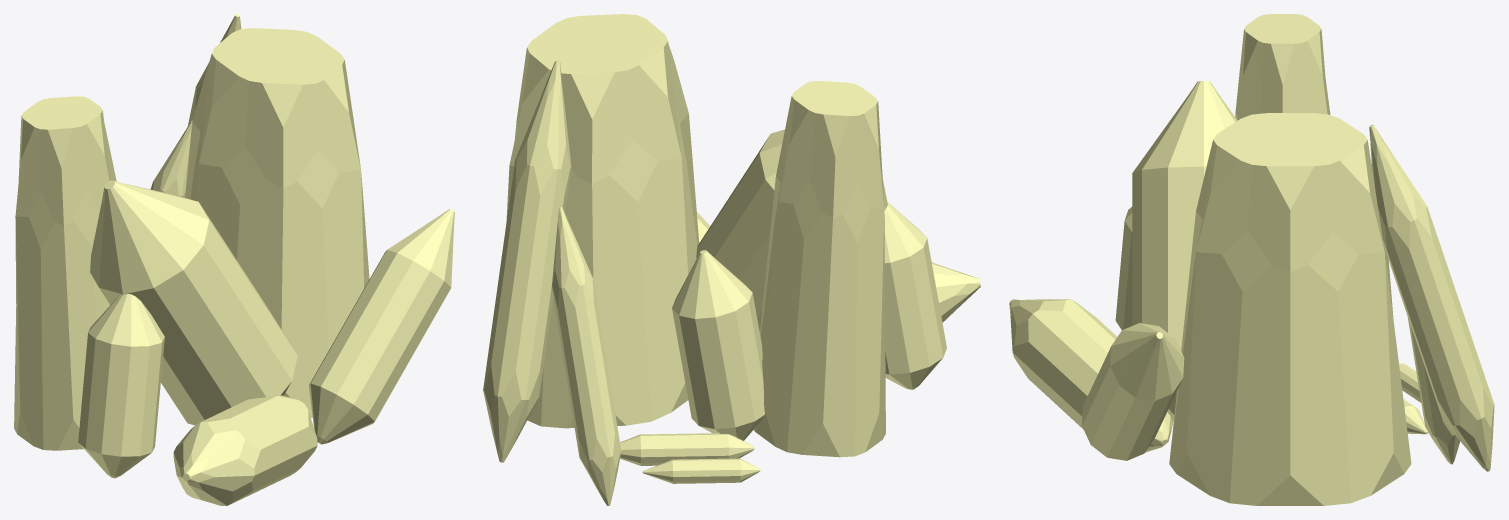
Rendered from YellowCrystalCluster.fbx.
3 renders of one model, left to right at view 1: azimuth 30°, elevation 25°; view 2: azimuth 150°, elevation 25°; view 3: azimuth 270°, elevation 25°, orthographic. The views are drawn at different scales.
Visible parts, largest first — view 1: CrystalCluster; view 2: CrystalCluster; view 3: CrystalCluster.
Part boxes in pixels (x1=…): CrystalCluster: x1=14, y1=14, x2=454, y2=505; CrystalCluster: x1=483, y1=14, x2=980, y2=505; CrystalCluster: x1=1009, y1=14, x2=1494, y2=505.
Size of the model in its own units: 351 by 327 by 375.
